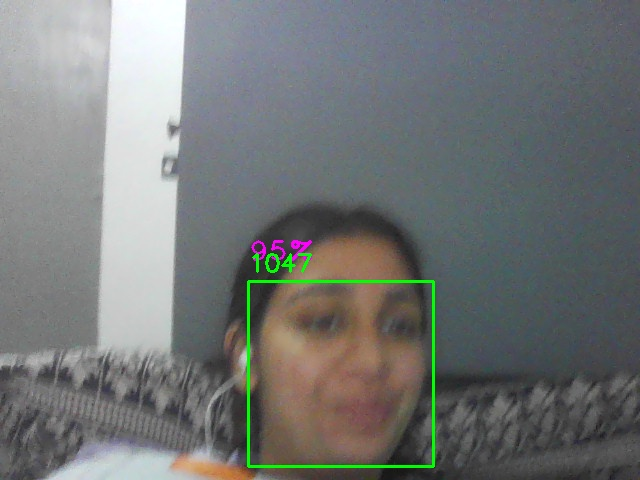real: (248, 281, 434, 467)
